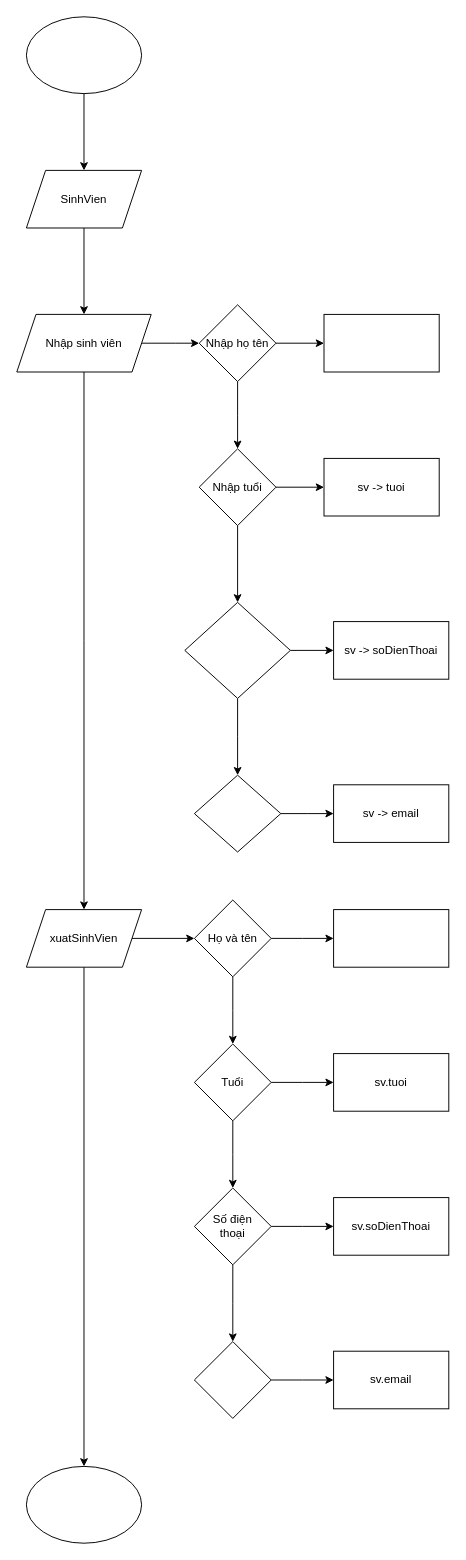
The diagram is 466 pixels wide and 1560 high, and some of its shapes have lost their labels. Each missing label, with the box of its shape:
email: (193, 1341, 271, 1418)
End: (25, 1465, 142, 1543)
Nhập email: (193, 774, 281, 852)
Nhập số điện thoại: (184, 601, 290, 698)
start: (25, 16, 142, 94)
sv -> hoTen: (323, 313, 439, 372)
sv.hoTen: (333, 909, 449, 967)
